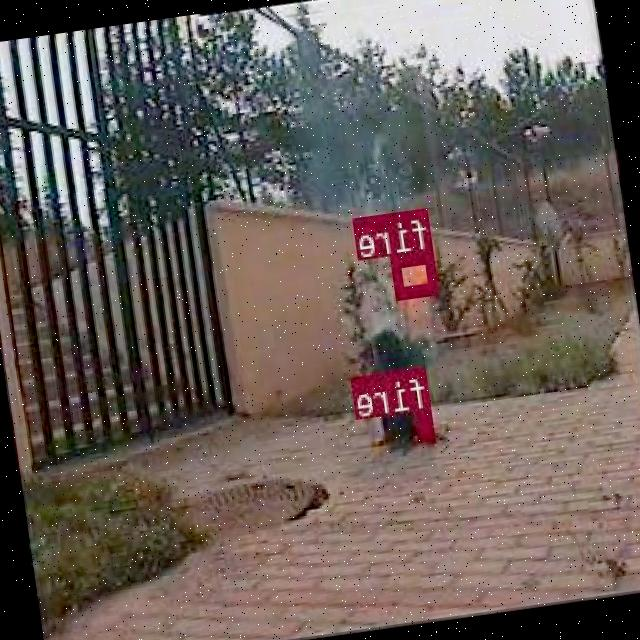fire: (394, 248, 441, 298), (418, 408, 436, 436)
